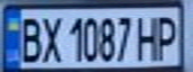0: (81, 14, 100, 62)
1: (63, 12, 84, 62)
7: (115, 12, 136, 62)
8: (100, 14, 118, 62)
B: (15, 12, 45, 63)
H: (133, 11, 163, 61)
P: (151, 11, 184, 61)
X: (36, 12, 63, 63)
